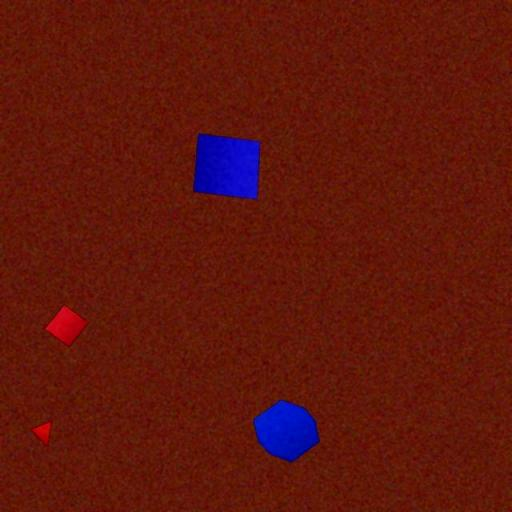BLUE_SQUARE: (193, 133, 261, 201)
RED_SQUARE: (44, 304, 90, 348)
